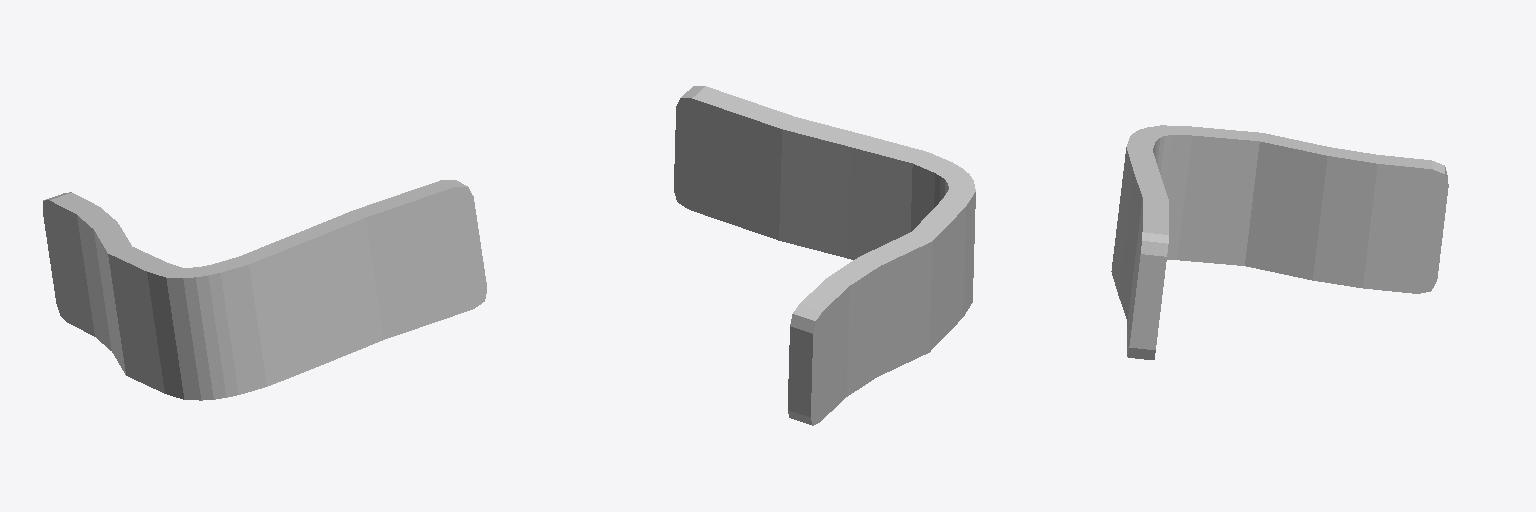
File: FactoryShedPlate.obj
3 views of the same model, side by side, from view 1: azimuth 30°, elevation 25°; view 2: azimuth 150°, elevation 25°; view 3: azimuth 270°, elevation 25° (orthographic).
Visible parts, largest first — view 1: ShedPatchMetal1 ShedPatch1 Shed1 CloudMaker1 HouseBase1; view 2: ShedPatchMetal1 ShedPatch1 Shed1 CloudMaker1 HouseBase1; view 3: ShedPatchMetal1 ShedPatch1 Shed1 CloudMaker1 HouseBase1.
Boxes of the visible parts, box(x1,y1,x2,y2) form: ShedPatchMetal1 ShedPatch1 Shed1 CloudMaker1 HouseBase1: box(43, 180, 486, 400); ShedPatchMetal1 ShedPatch1 Shed1 CloudMaker1 HouseBase1: box(674, 86, 975, 425); ShedPatchMetal1 ShedPatch1 Shed1 CloudMaker1 HouseBase1: box(1111, 125, 1448, 359).
Bounding box in the file's own units: 3.86 × 2.07 × 3.61.